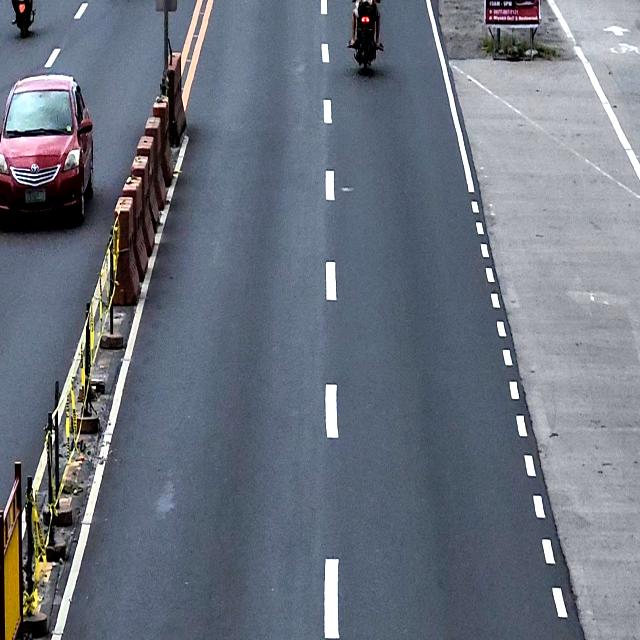Car: (0, 71, 97, 230)
License-Plate: (26, 188, 46, 204)
Motorcycle: (350, 0, 384, 76), (12, 0, 36, 39)
